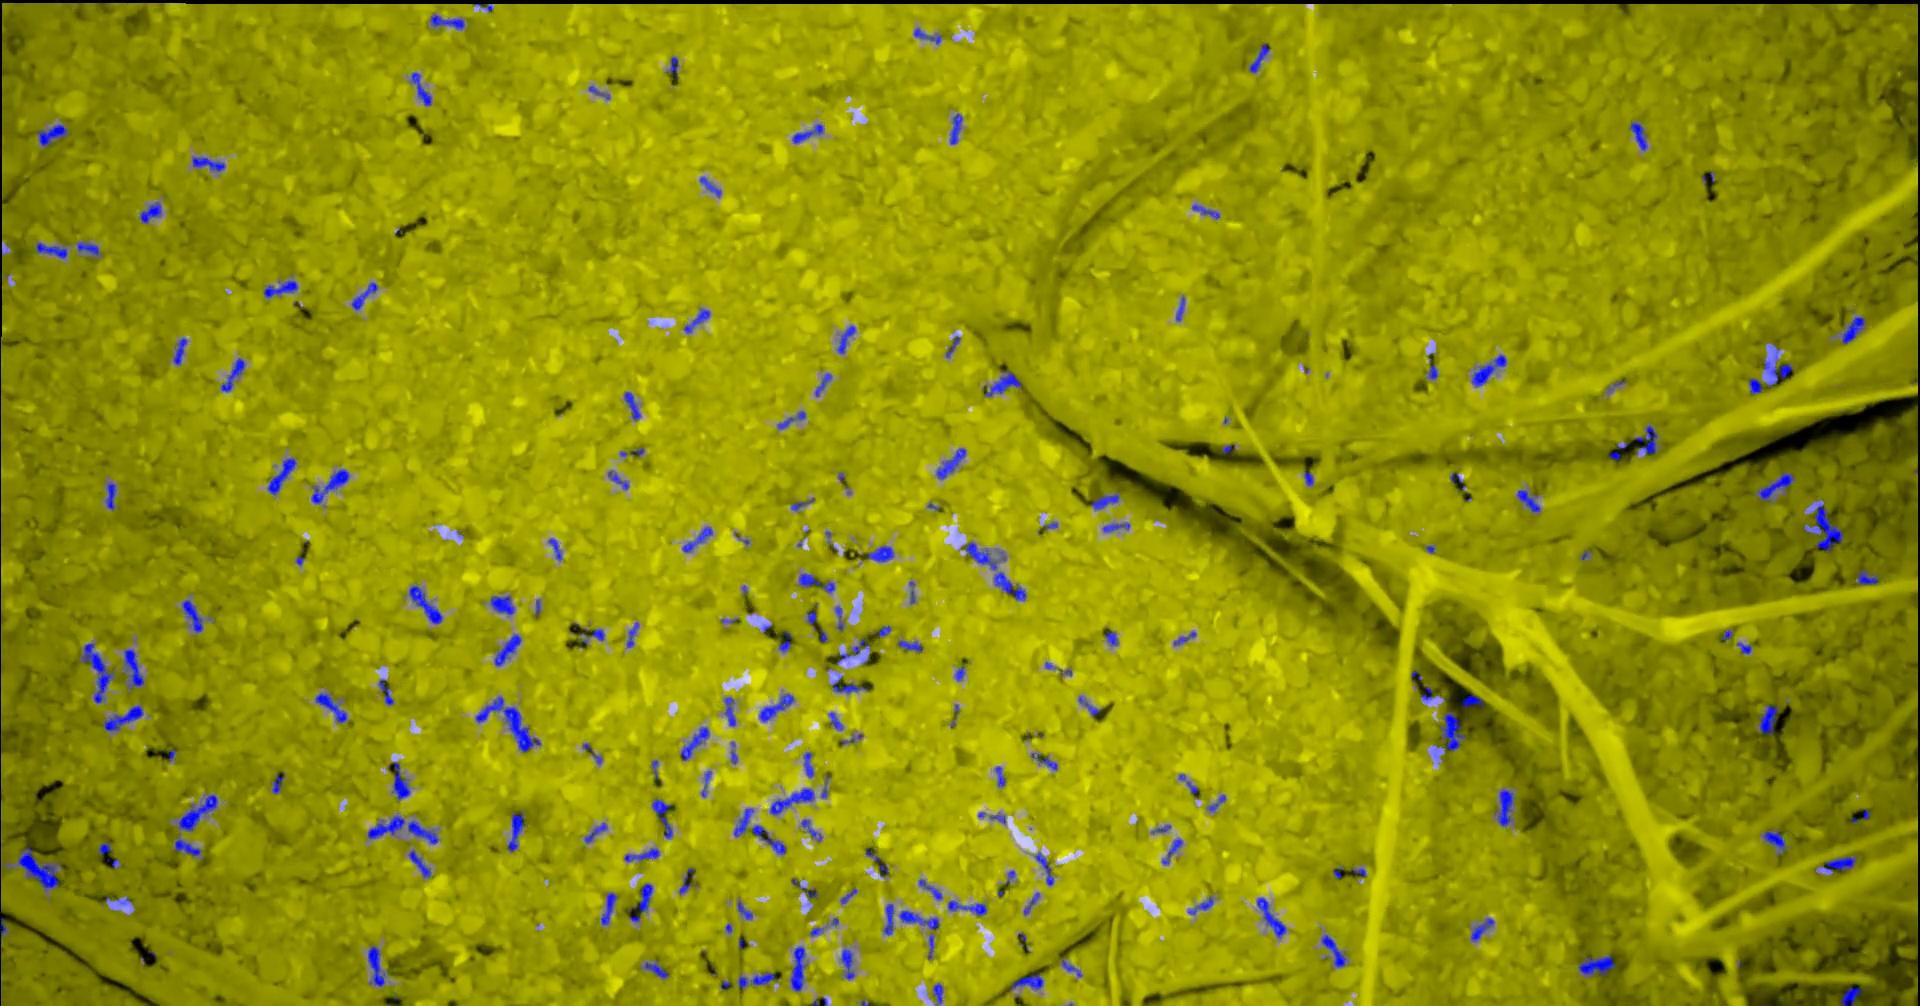ant: (475, 696, 540, 752), (964, 542, 1025, 600), (80, 643, 114, 702), (367, 815, 438, 843), (17, 846, 60, 890), (1810, 503, 1843, 551), (178, 794, 217, 831), (311, 467, 349, 504), (408, 586, 442, 622), (1256, 897, 1286, 937), (770, 788, 814, 814), (1436, 711, 1465, 751), (1470, 354, 1506, 386), (267, 457, 296, 494), (1757, 473, 1793, 502), (103, 705, 143, 730), (750, 824, 785, 854), (983, 371, 1021, 396), (758, 694, 792, 721), (681, 727, 709, 760), (936, 447, 965, 478), (493, 634, 521, 666), (836, 638, 869, 664), (315, 694, 345, 721), (1321, 934, 1346, 967), (220, 357, 244, 391), (123, 648, 143, 688), (1577, 954, 1615, 976), (651, 799, 672, 838), (1763, 359, 1792, 386), (682, 527, 712, 553), (389, 761, 409, 799), (898, 909, 938, 929), (738, 970, 778, 989), (507, 810, 524, 851), (367, 945, 385, 986), (350, 282, 377, 309), (797, 573, 834, 592), (1633, 426, 1657, 453), (410, 72, 430, 105), (182, 600, 202, 633), (408, 848, 430, 878), (37, 124, 67, 146), (830, 676, 867, 694), (1496, 789, 1514, 826), (791, 123, 823, 144), (806, 610, 827, 641), (1757, 702, 1778, 734), (1841, 316, 1865, 343), (1034, 852, 1053, 885), (790, 946, 804, 991), (683, 309, 709, 333), (263, 279, 297, 297), (1763, 829, 1785, 855), (733, 808, 753, 836), (1822, 855, 1857, 871), (599, 892, 617, 923), (1250, 43, 1269, 72), (632, 883, 651, 912), (1516, 489, 1540, 512), (1470, 917, 1493, 941), (1161, 838, 1182, 864), (1010, 973, 1043, 989), (836, 325, 855, 353), (947, 901, 985, 915), (138, 201, 161, 224), (430, 14, 463, 29), (777, 410, 805, 428), (623, 847, 659, 861), (918, 879, 942, 899), (192, 156, 223, 171), (36, 243, 67, 258), (1187, 895, 1213, 915), (643, 959, 668, 978), (1840, 986, 1865, 1005), (623, 391, 640, 420), (1090, 493, 1119, 509), (698, 177, 721, 197), (584, 822, 607, 842), (913, 27, 941, 43), (1629, 122, 1646, 150), (490, 594, 514, 614), (841, 948, 855, 979), (866, 545, 893, 561), (174, 840, 201, 856), (801, 819, 822, 841), (1078, 696, 1101, 715), (949, 113, 963, 144), (0, 916, 8, 972), (579, 627, 604, 644), (1031, 752, 1057, 768), (607, 470, 629, 489), (1191, 205, 1219, 218), (1062, 956, 1081, 976), (173, 337, 185, 365), (679, 868, 693, 893), (815, 373, 830, 396), (1023, 892, 1039, 915), (378, 680, 392, 704), (724, 696, 735, 725), (945, 335, 960, 357), (1857, 569, 1878, 584), (897, 639, 922, 652), (883, 903, 893, 935), (790, 497, 813, 511), (700, 770, 711, 796), (77, 241, 99, 255), (1173, 631, 1195, 645), (1462, 694, 1483, 708), (105, 481, 116, 511), (1609, 442, 1625, 460), (1208, 794, 1225, 810), (737, 901, 752, 920), (626, 622, 637, 647), (549, 539, 561, 560), (1102, 522, 1129, 532), (778, 631, 791, 652), (803, 752, 813, 777), (270, 774, 283, 793), (1749, 377, 1763, 394), (828, 713, 842, 729), (1429, 353, 1437, 379), (667, 56, 677, 77), (932, 983, 942, 1005), (1175, 296, 1183, 320), (834, 606, 843, 630), (1420, 686, 1436, 699), (994, 766, 1004, 786), (1103, 631, 1117, 645), (97, 841, 110, 855), (1736, 641, 1751, 654)
